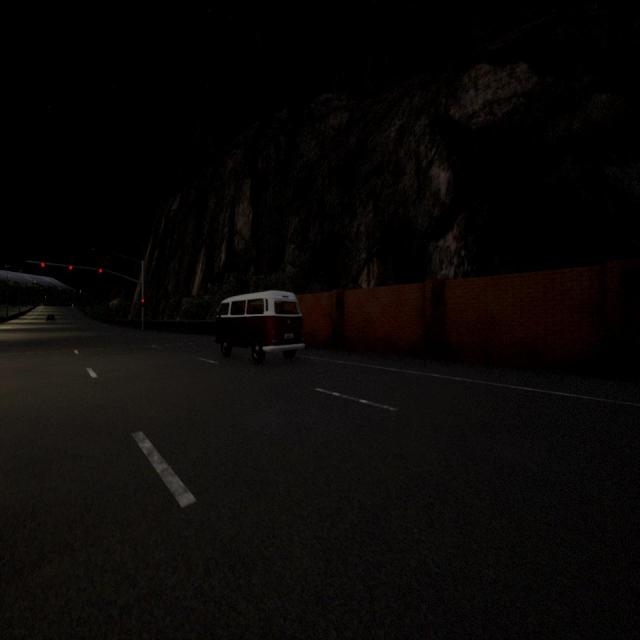Vehicle: (216, 291, 304, 363), (46, 313, 56, 322)
traffic_light: (41, 263, 45, 271), (69, 265, 72, 274), (99, 269, 102, 277), (141, 298, 144, 306)
